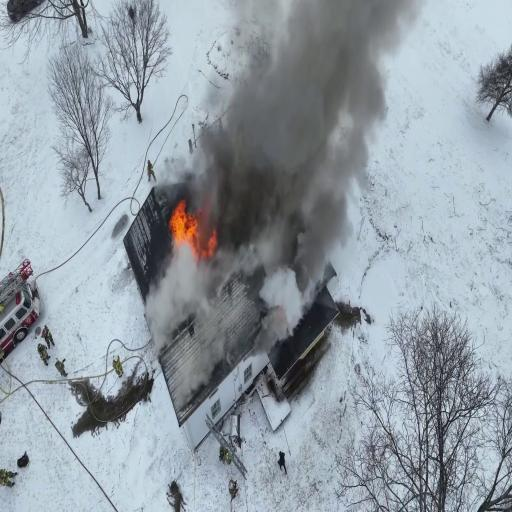fire: (169, 192, 216, 258)
smoke: (247, 40, 339, 243)
